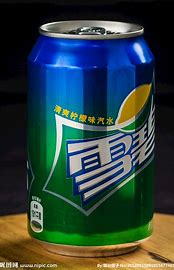Sprite: (25, 18, 158, 259)
